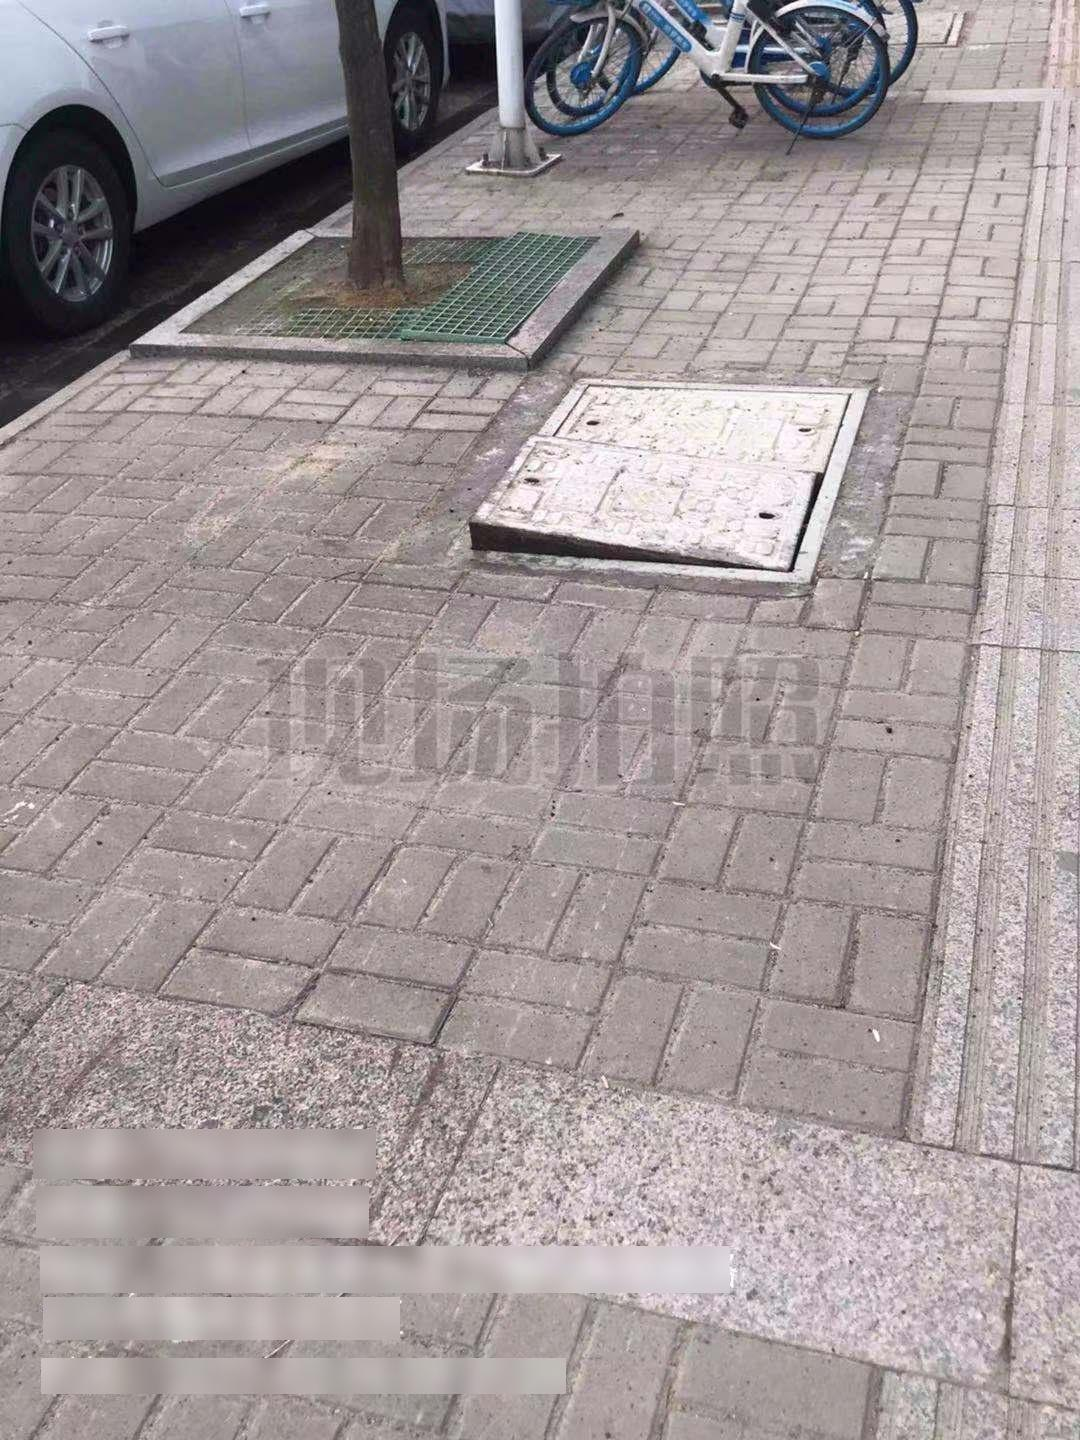wellcover: (463, 347, 871, 617)
